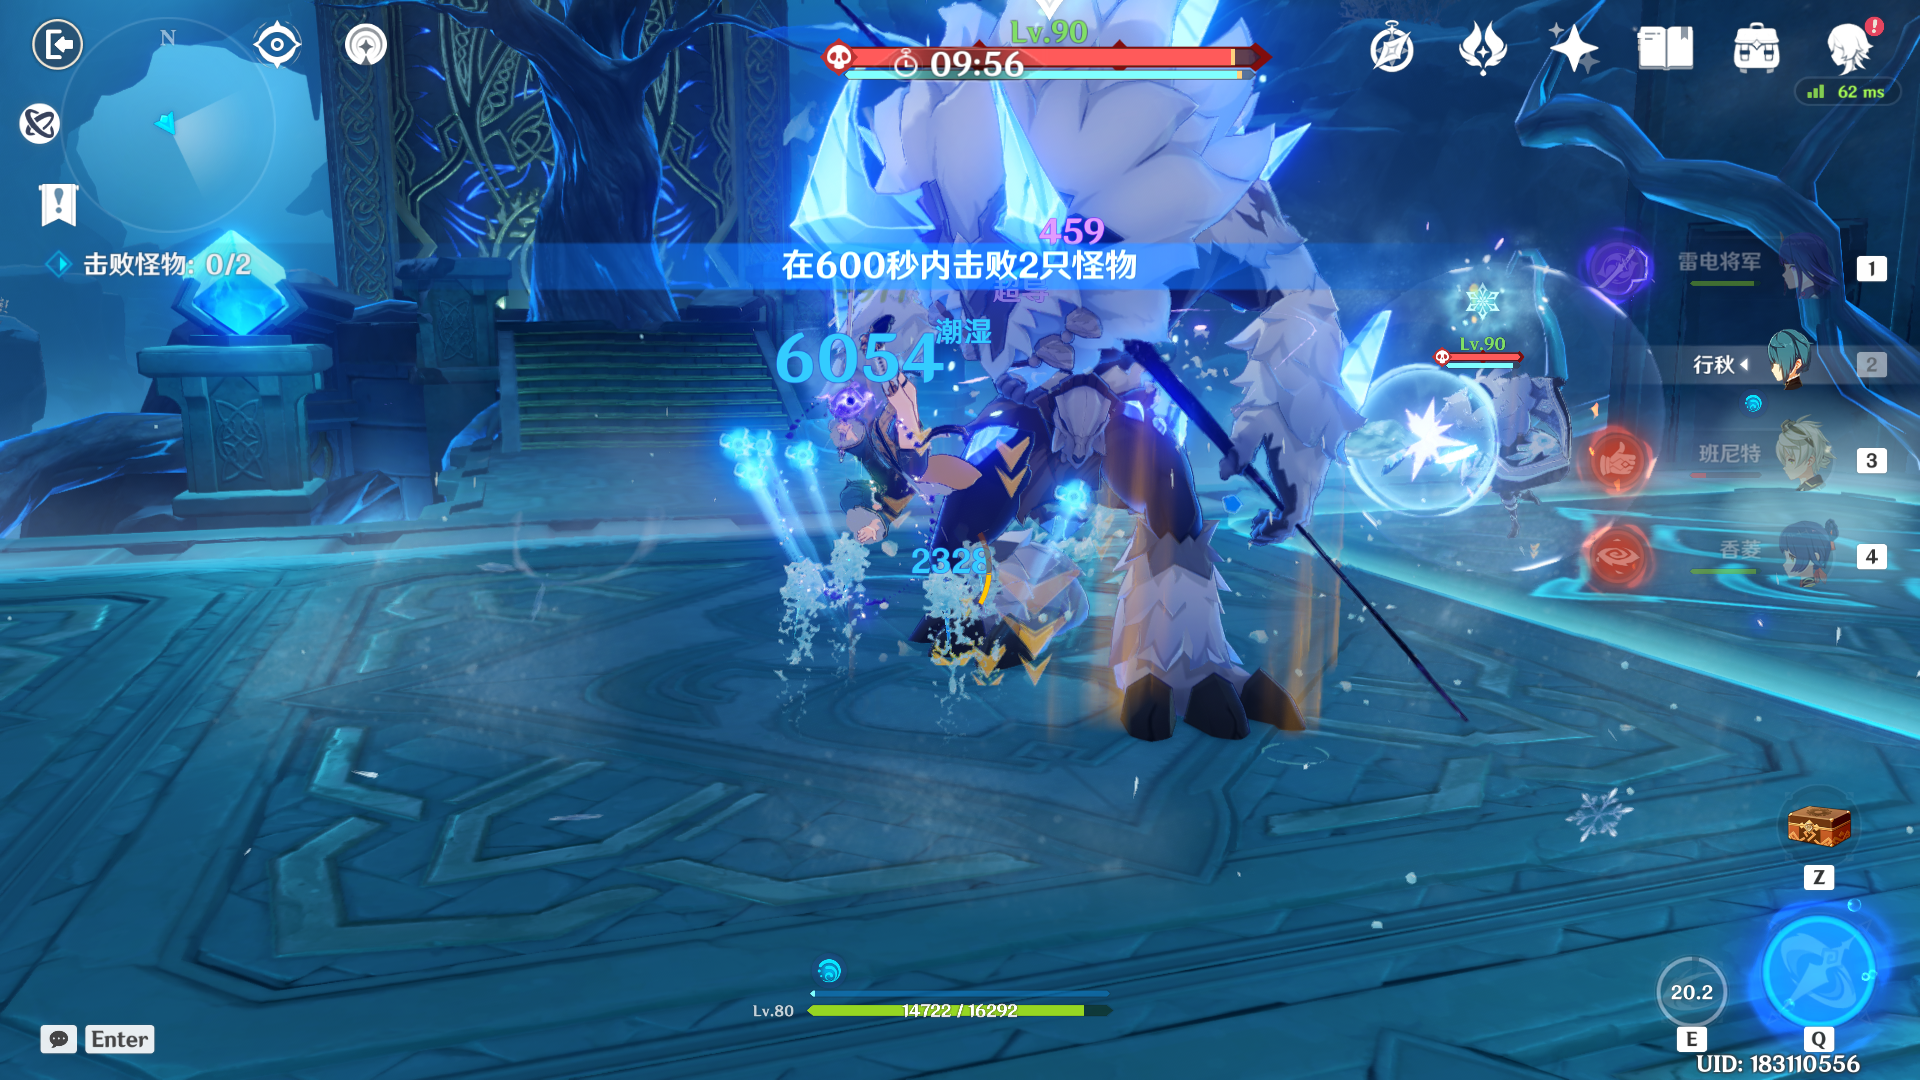bosshili: (679, 1, 1382, 810)
caster: (1382, 281, 1636, 560)
